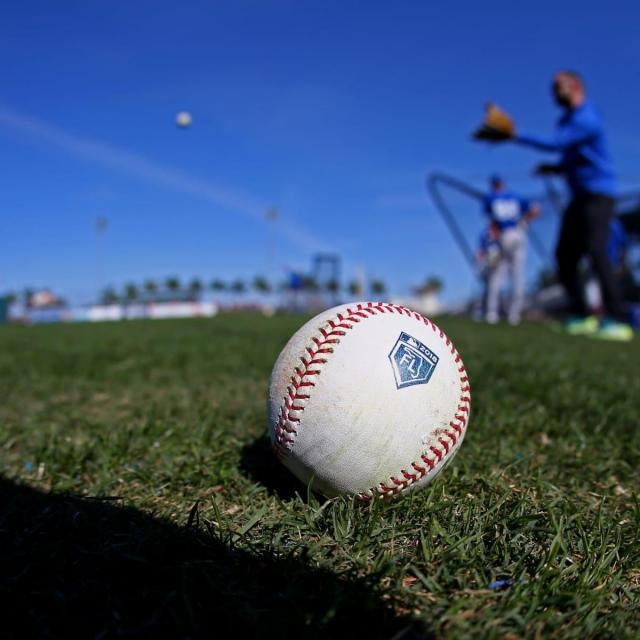baseball: (264, 297, 472, 501), (175, 112, 192, 126)
